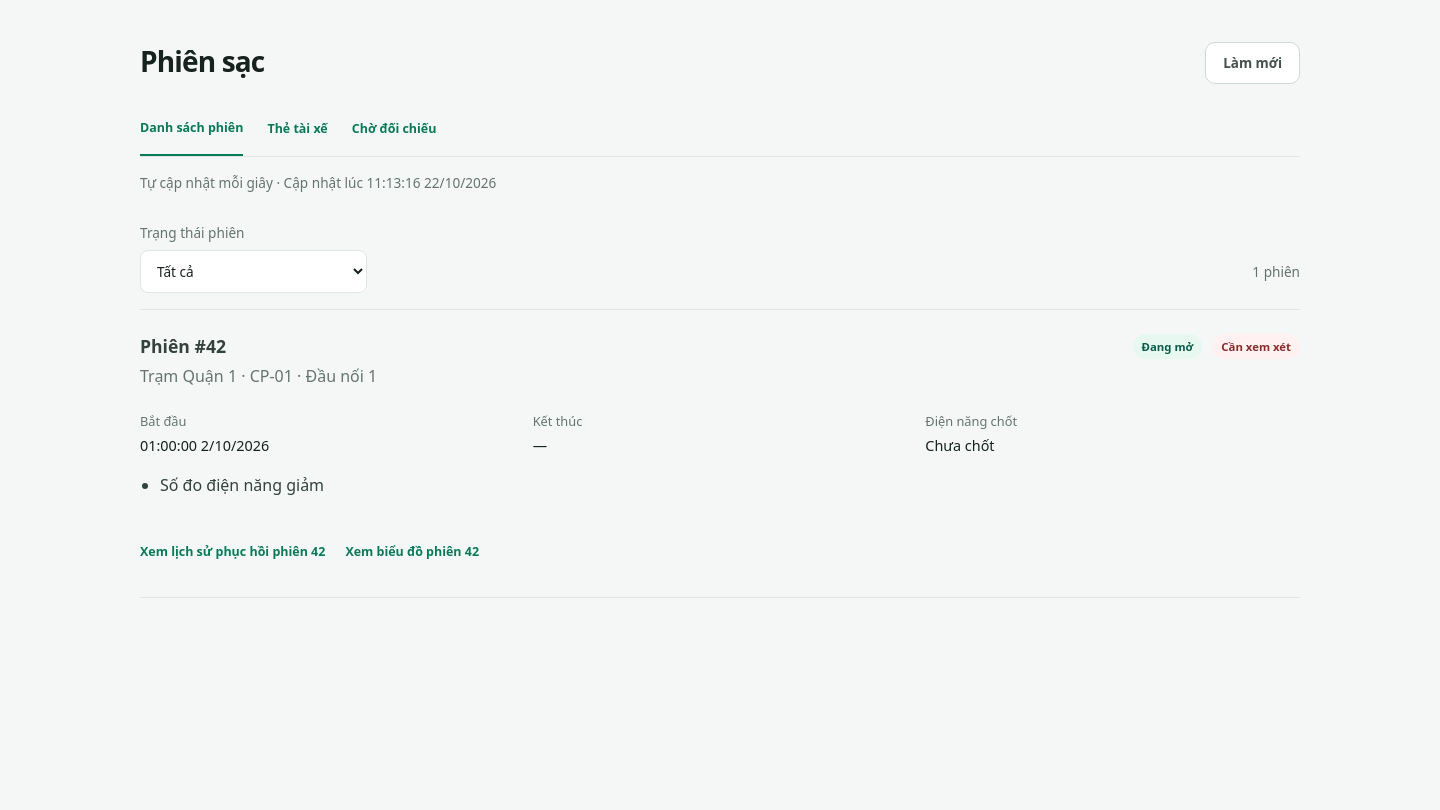
it: ChargingSessionsPage › creates a driver card, clears the identifying input and locks the card
expect the heading "Phiên #42" is shown: met, box 140,334 -> 226,358
Click the button "Thẻ tài xế" at (298, 134), box 267,112 -> 328,156
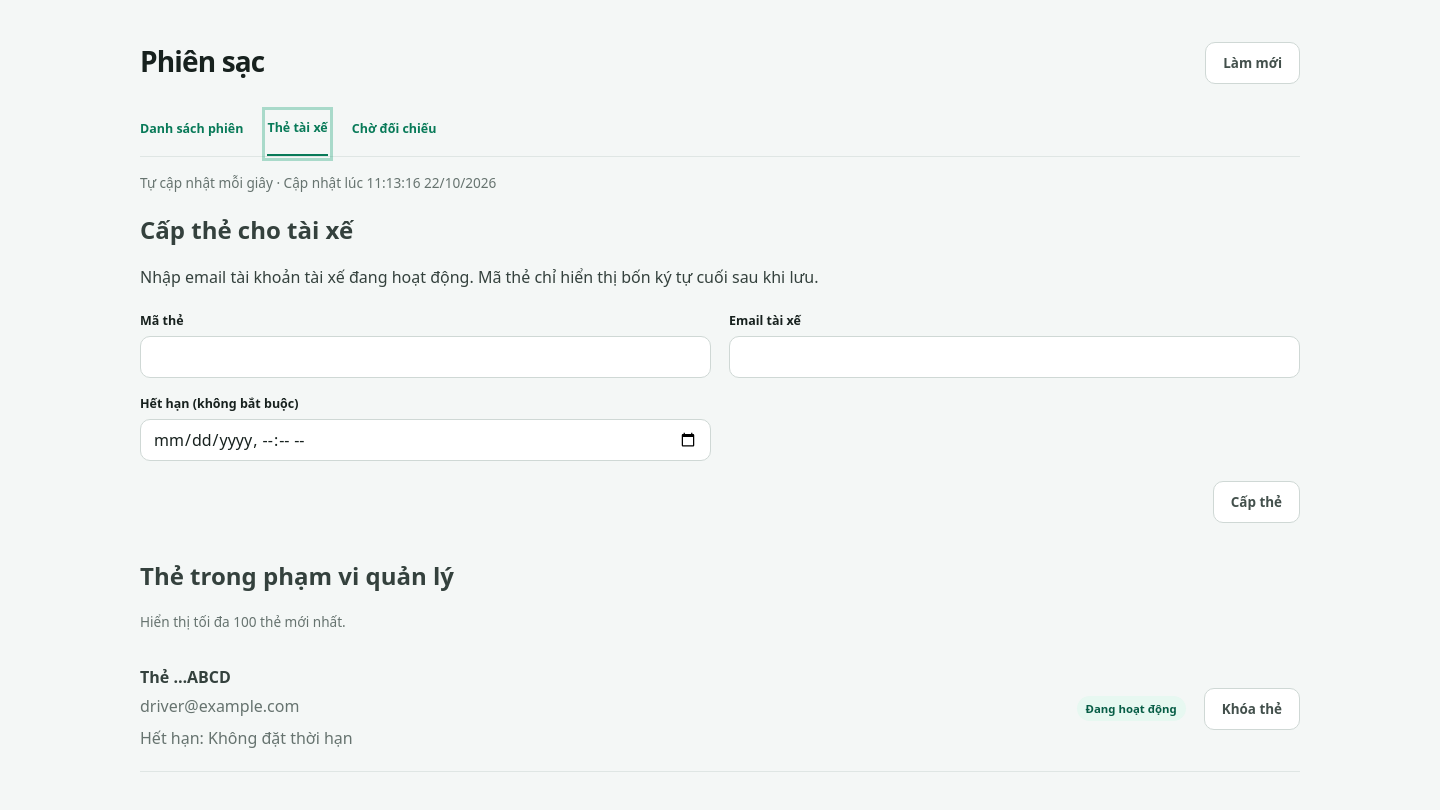
Type "TEST-ABCD" into the password field labelled "Mã thẻ" at (426, 357), box 140,336 -> 711,378
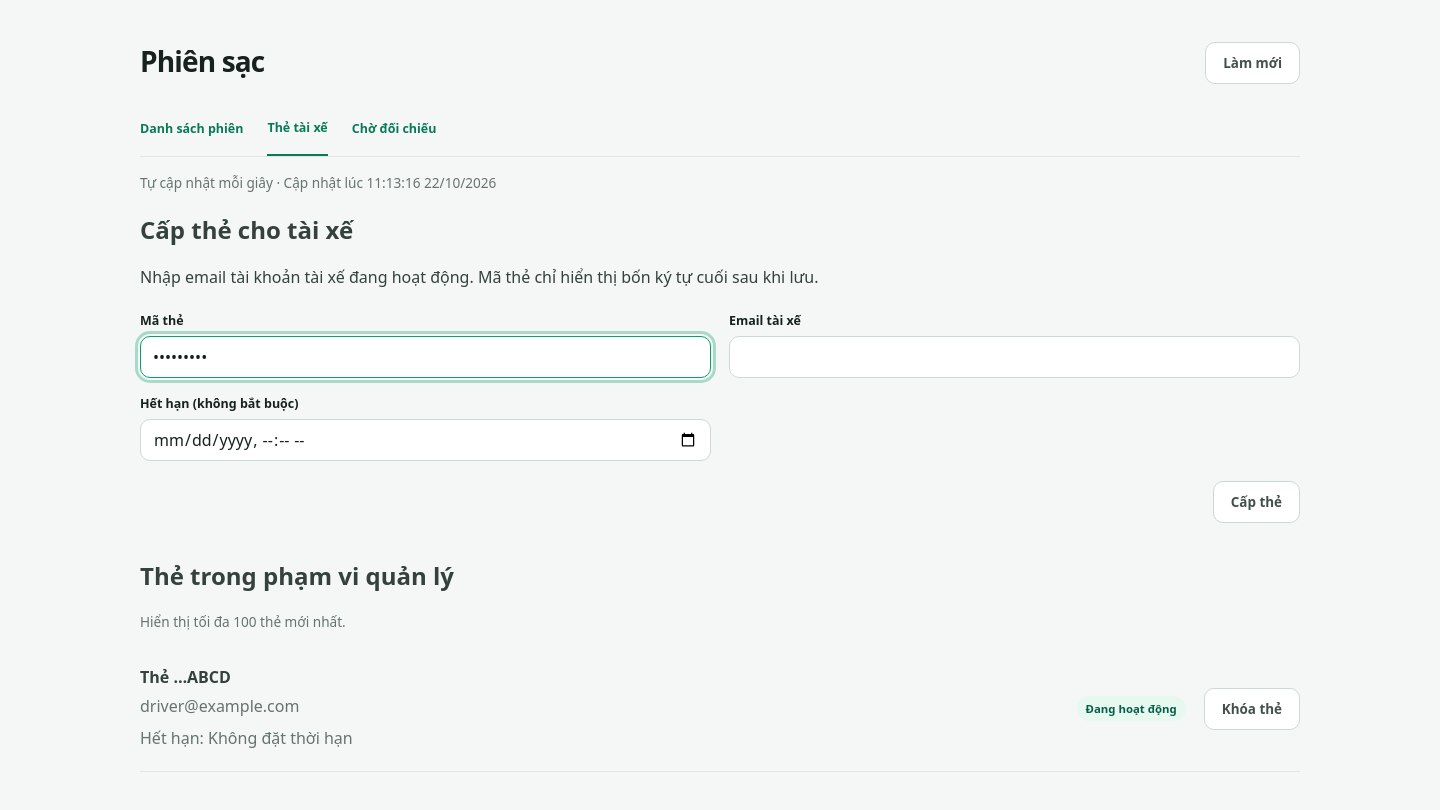
Type "driver@example.com" into the field labelled "Email tài xế" at (1014, 357), box 729,336 -> 1300,378
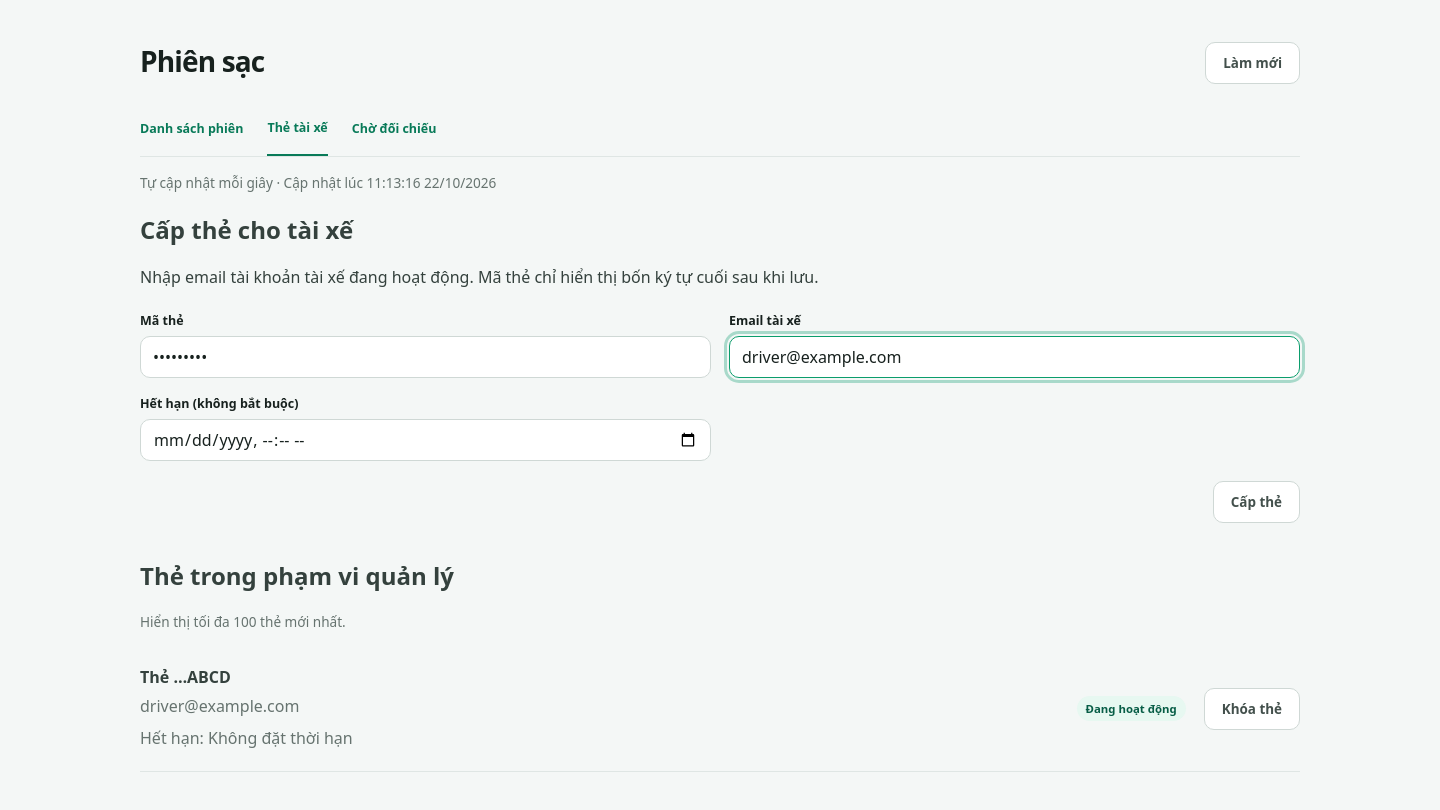
Click the button "Cấp thẻ" at (1256, 502), box 1213,481 -> 1300,523
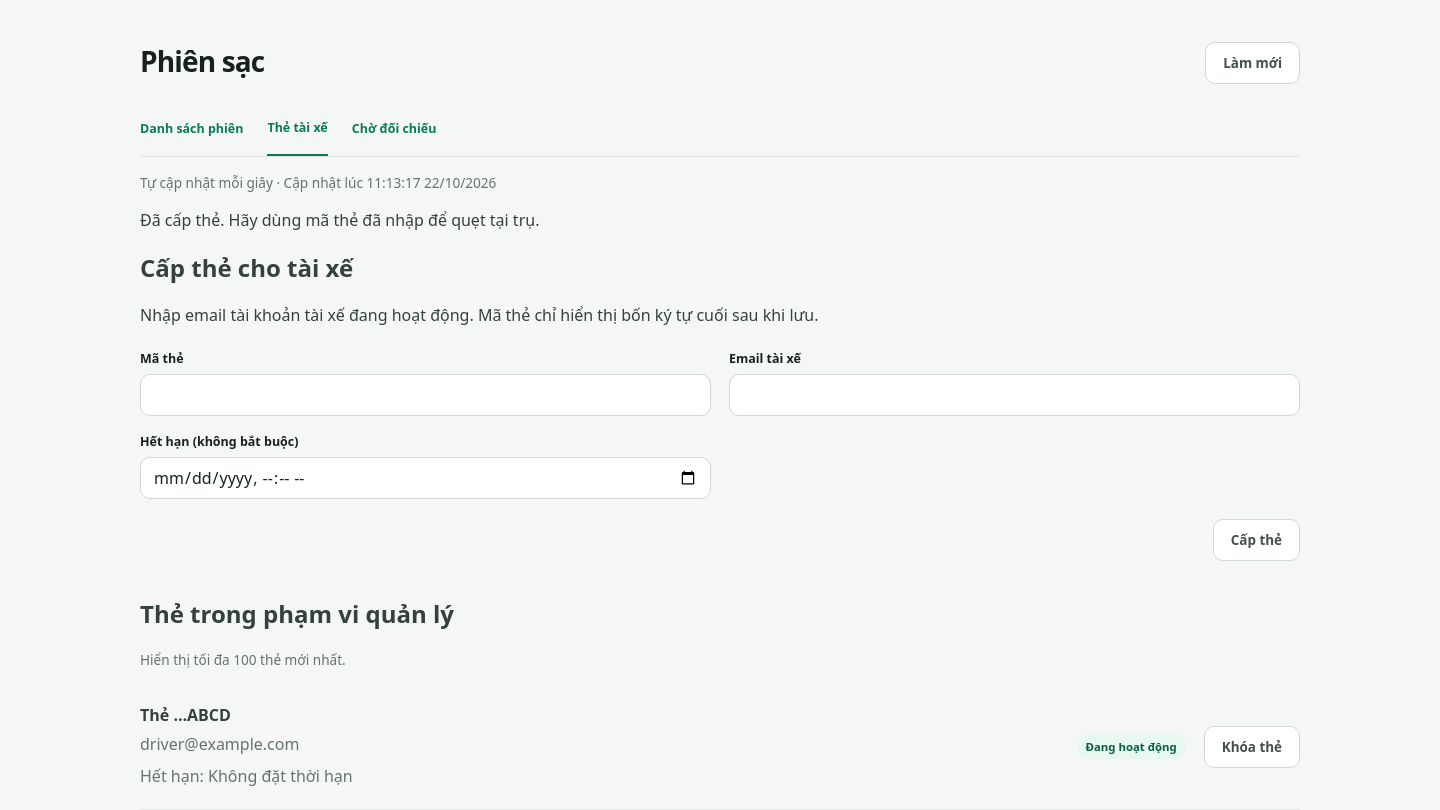
expect the text "Đã cấp thẻ. Hãy dùng mã thẻ đã nhập để quẹt tại trụ." is shown: met, box 140,209 -> 539,231
expect the password field labelled "Mã thẻ" is empty: met, box 140,374 -> 711,416
Click the button "Khóa thẻ" at (1252, 747), box 1204,726 -> 1300,768
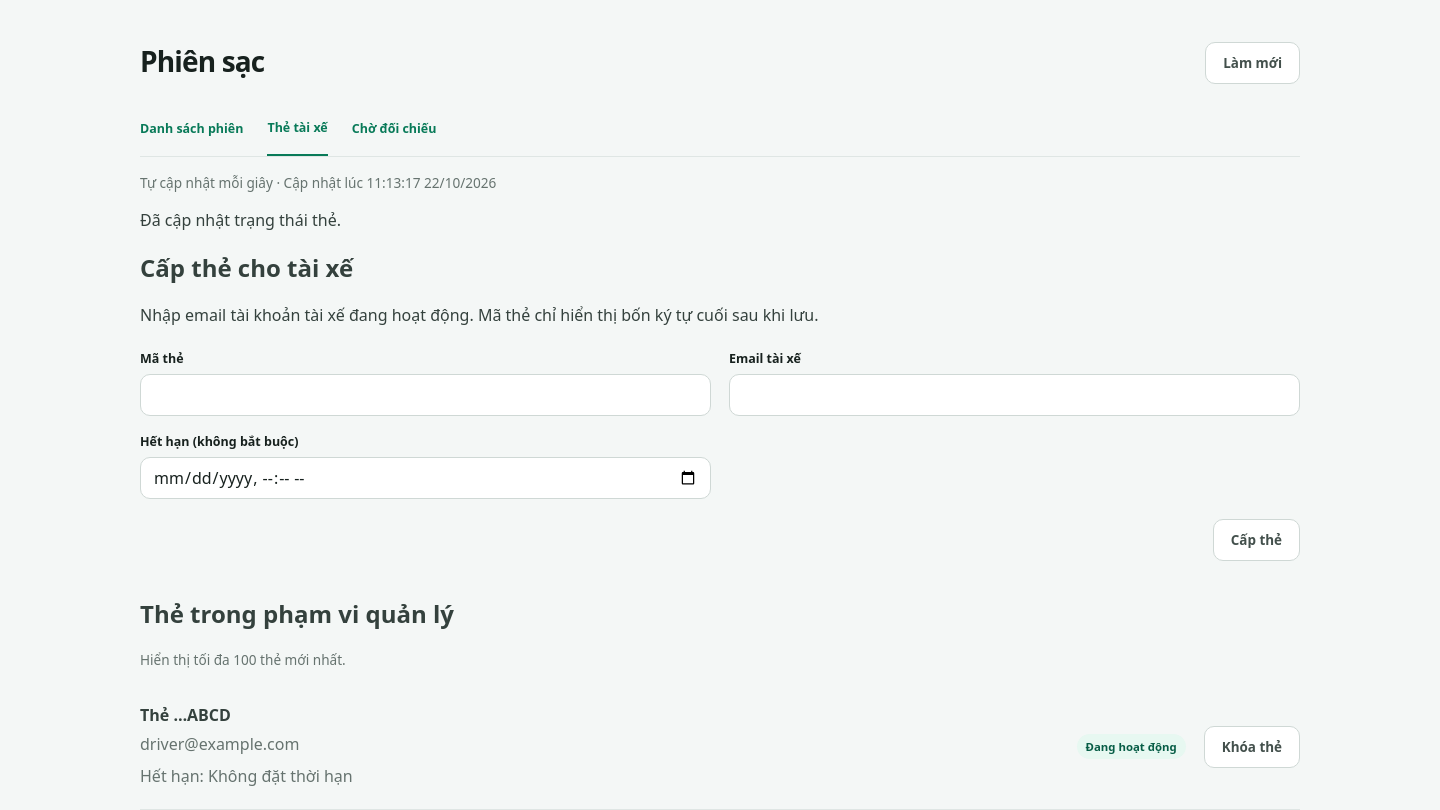
expect the text "Đã cập nhật trạng thái thẻ." is shown: met, box 140,209 -> 341,231
